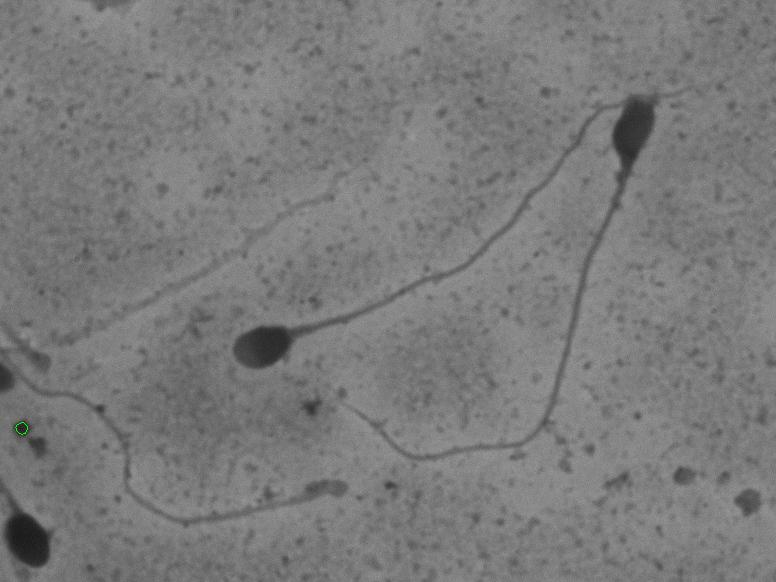Abnormal: (546, 79, 715, 342)
Normal: (211, 72, 692, 386)
